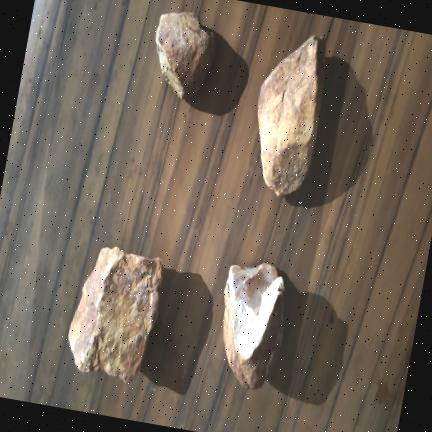Rocks: (68, 247, 161, 382), (257, 36, 324, 194), (223, 263, 283, 388), (155, 11, 214, 97)
